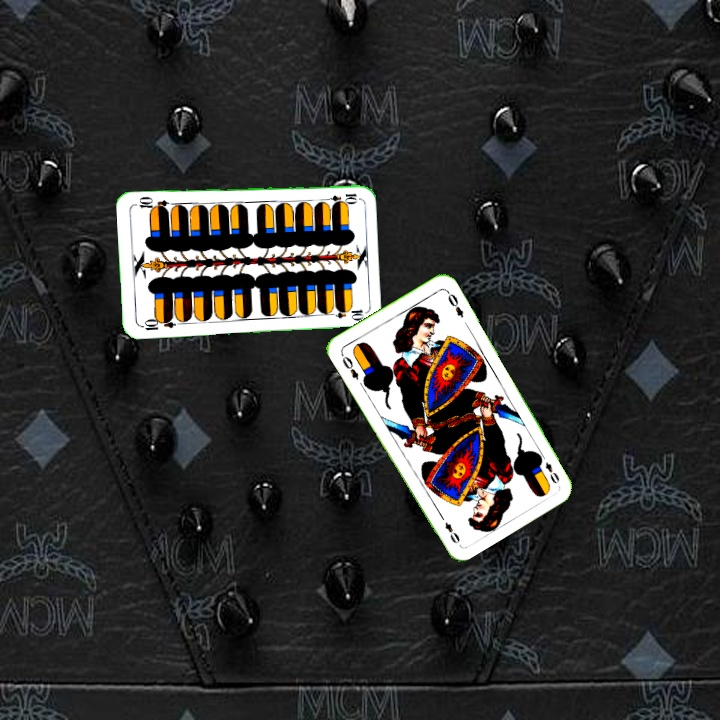E10: (137, 313, 177, 333), (319, 189, 360, 205)
EO: (535, 449, 562, 486), (338, 352, 361, 383)
